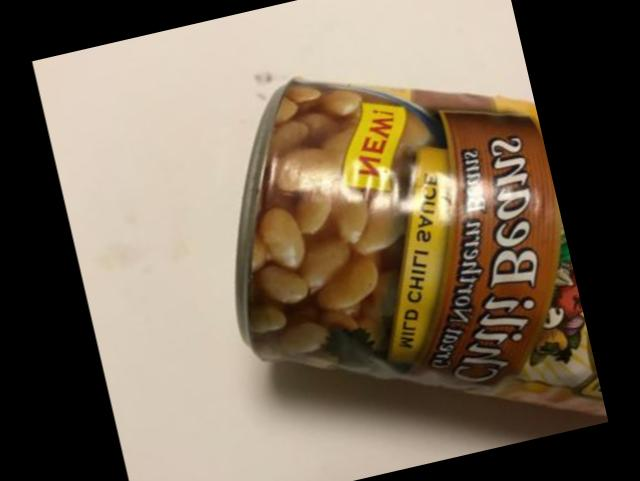metal: (233, 78, 603, 410)
